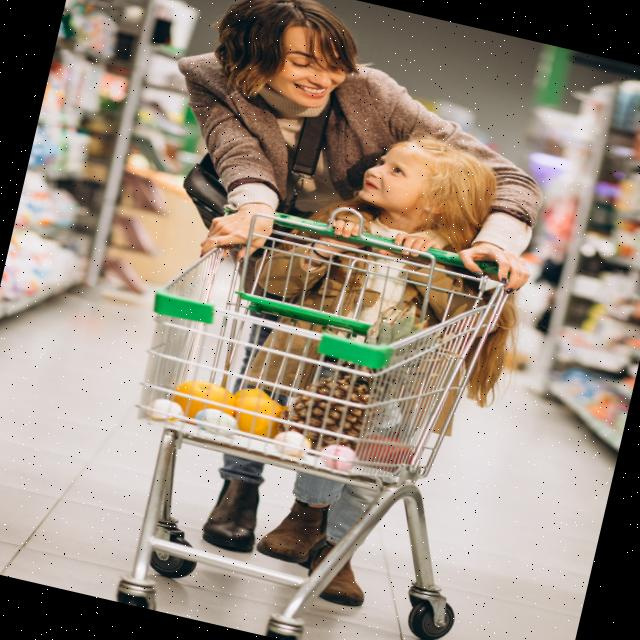Person: (77, 0, 574, 601), (188, 109, 552, 628)
